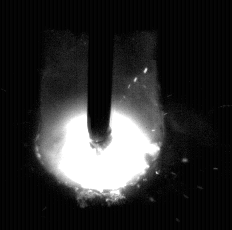arame: (88, 0, 112, 149)
poca: (34, 0, 162, 230)
